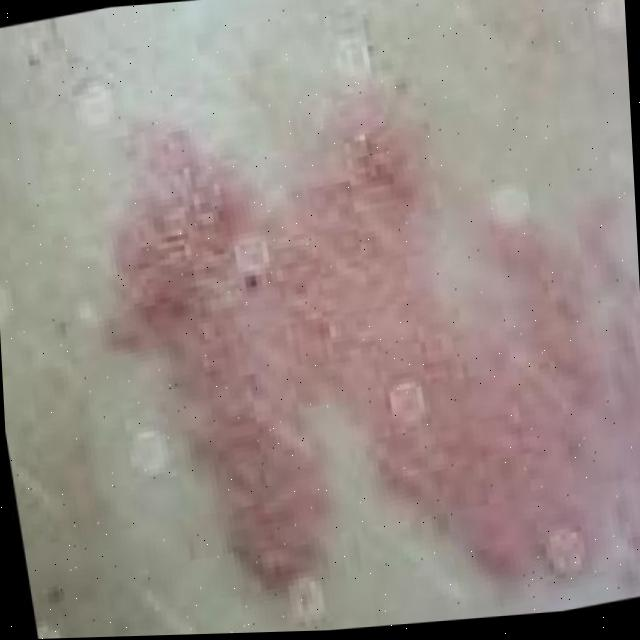Shingles: (119, 115, 640, 593)
